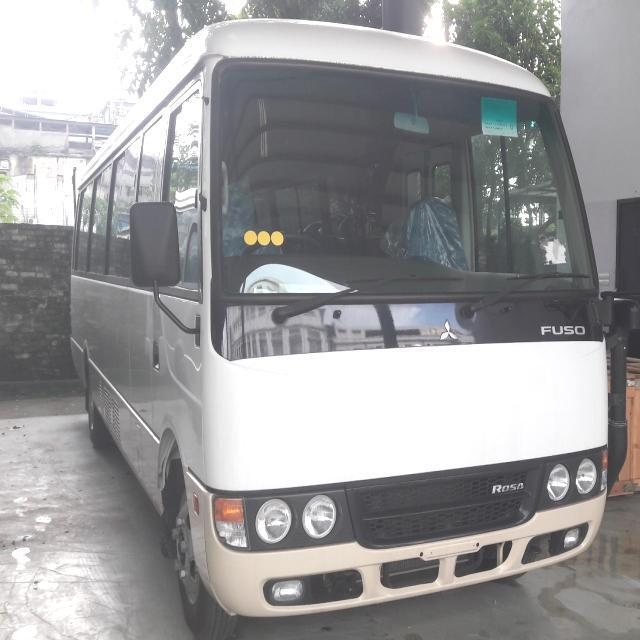Bus: (61, 1, 638, 640)
